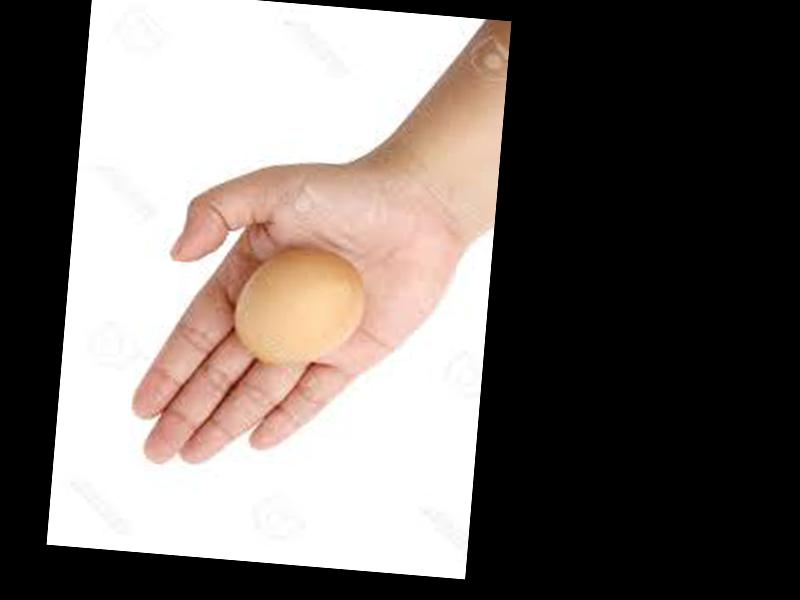Eggs: (232, 241, 368, 367)
